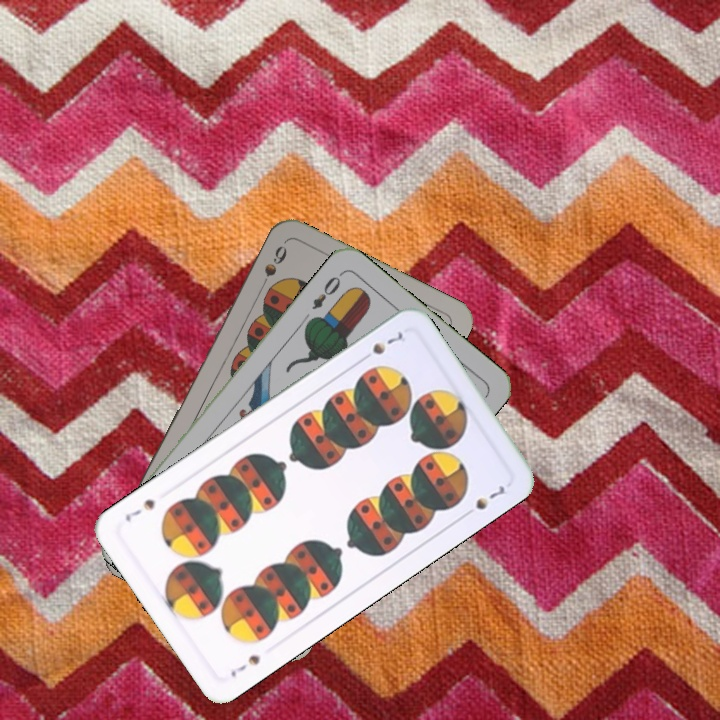EO: (308, 268, 345, 313)
S7: (356, 328, 406, 365), (226, 650, 264, 680)
S9: (255, 241, 290, 295)
